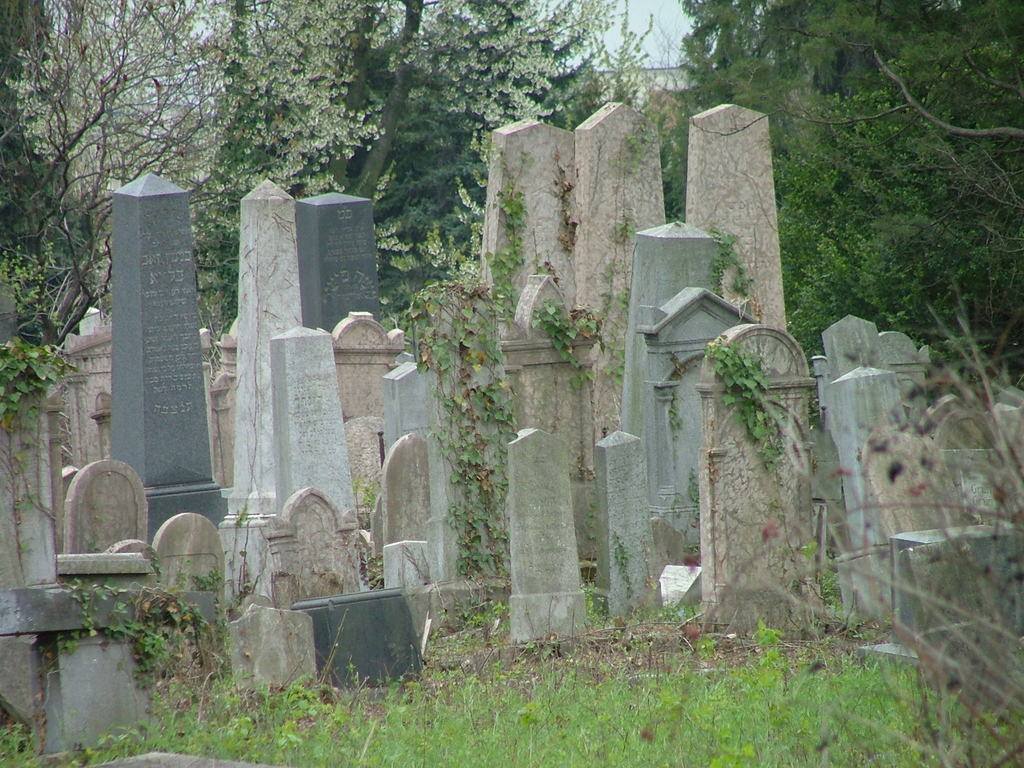Tree: (0, 0, 776, 591), (771, 4, 1009, 411)
